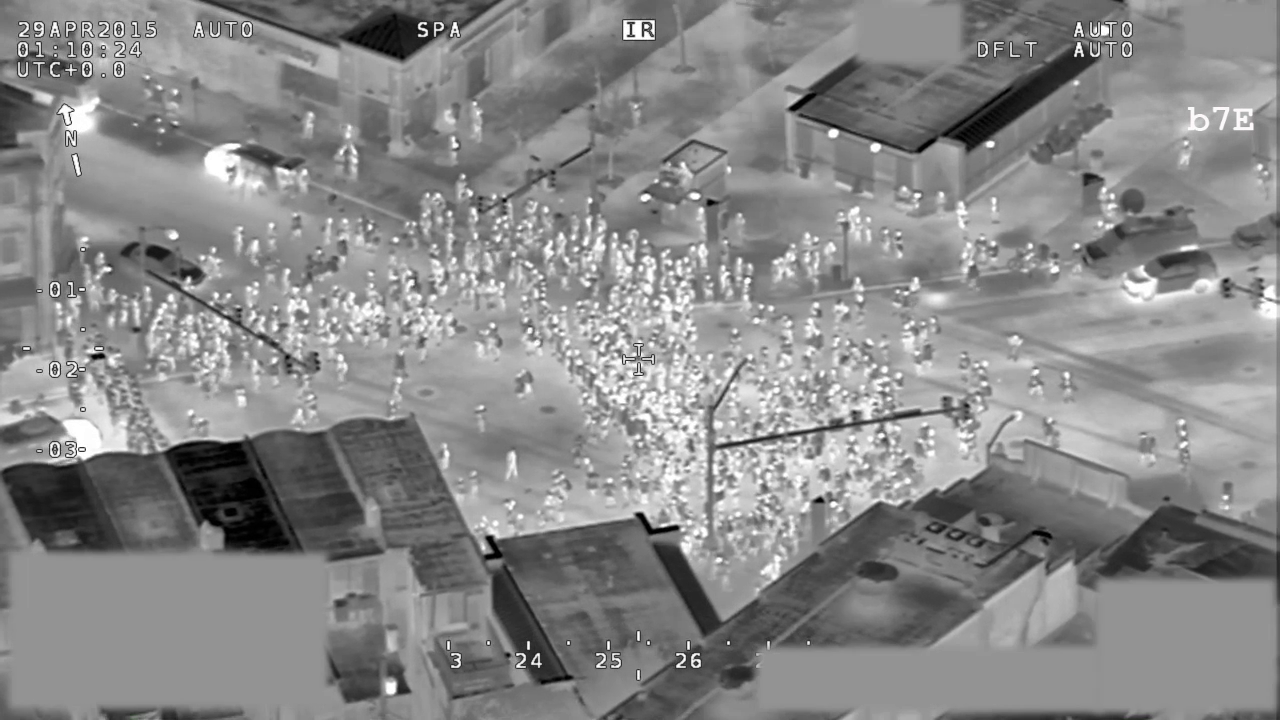vehicle: (1077, 187, 1207, 281), (1, 49, 102, 132), (203, 139, 308, 203), (1, 408, 101, 466), (1121, 251, 1221, 303), (115, 238, 204, 290), (1231, 211, 1280, 264)
